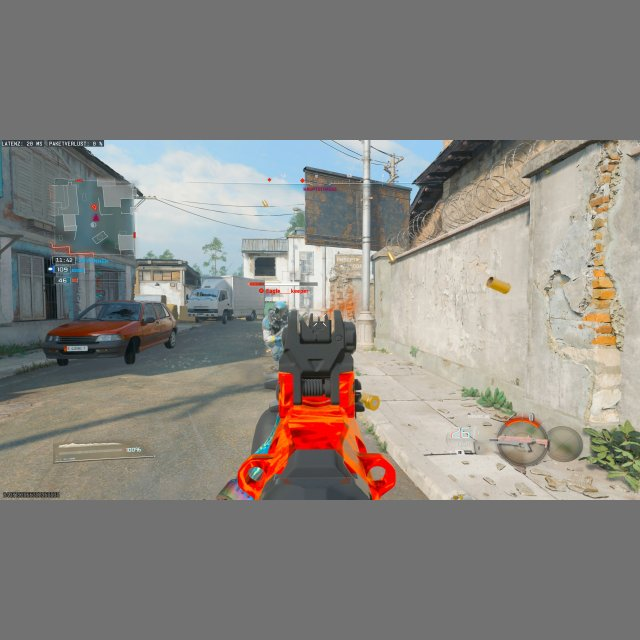head: (274, 305, 280, 313)
player: (262, 304, 289, 367)
